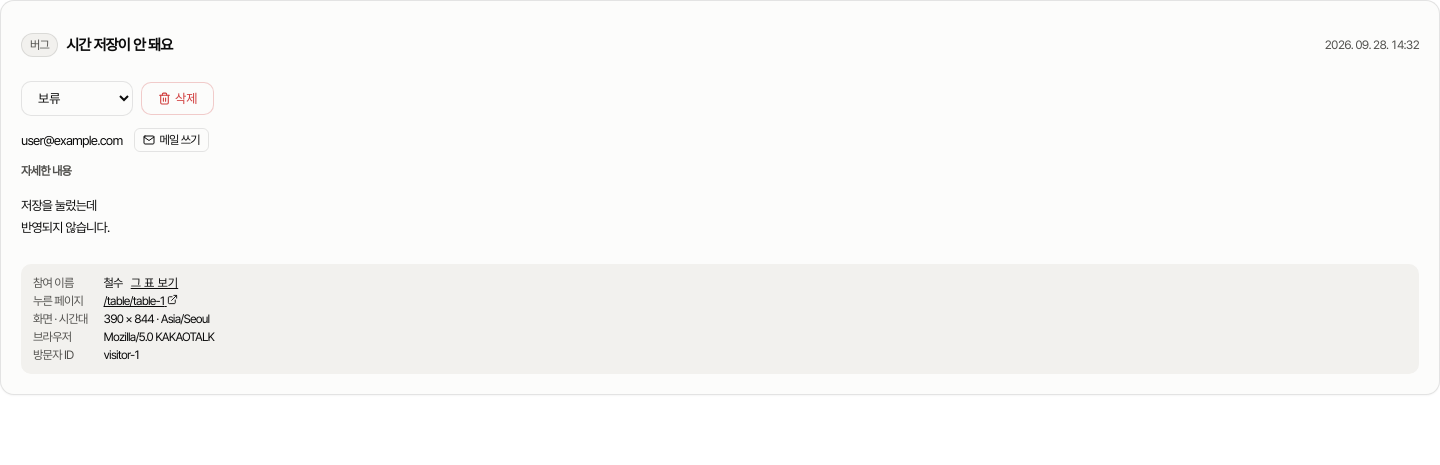
상태 저장에 실패하면 이전 상태로 되돌리고 이유를 알린다
Select "완료" in the dropdown named "처리 상태: 시간 저장이 안 돼요": (77, 98) top-left (21, 81), bottom-right (133, 116)
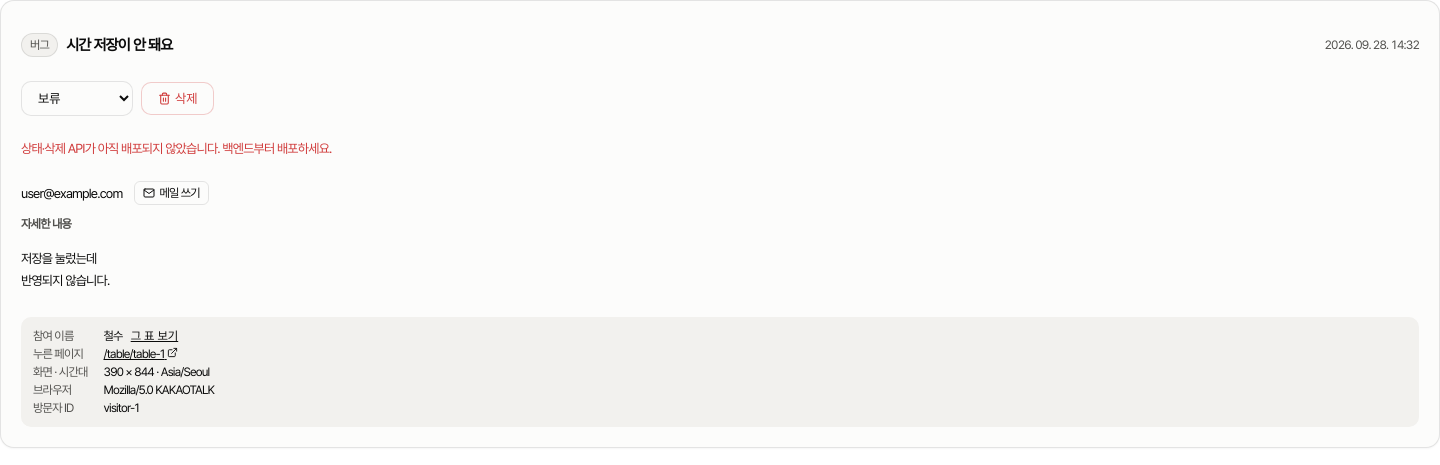
Result: the message shows "백엔드부터 배포하세요" at top-left (21, 141), bottom-right (332, 156)
